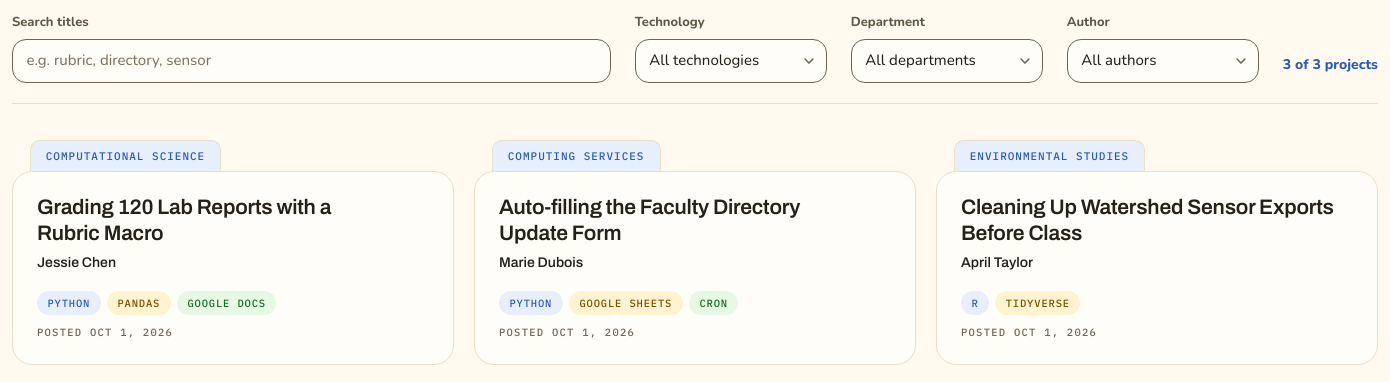
Test: ProjectBrowser › narrows the grid as you filter, with no second request
The image size is (1390, 382).
Type "watershed" into the search field labelled "Search titles" at (311, 61), box left=12, top=38, right=611, bottom=83
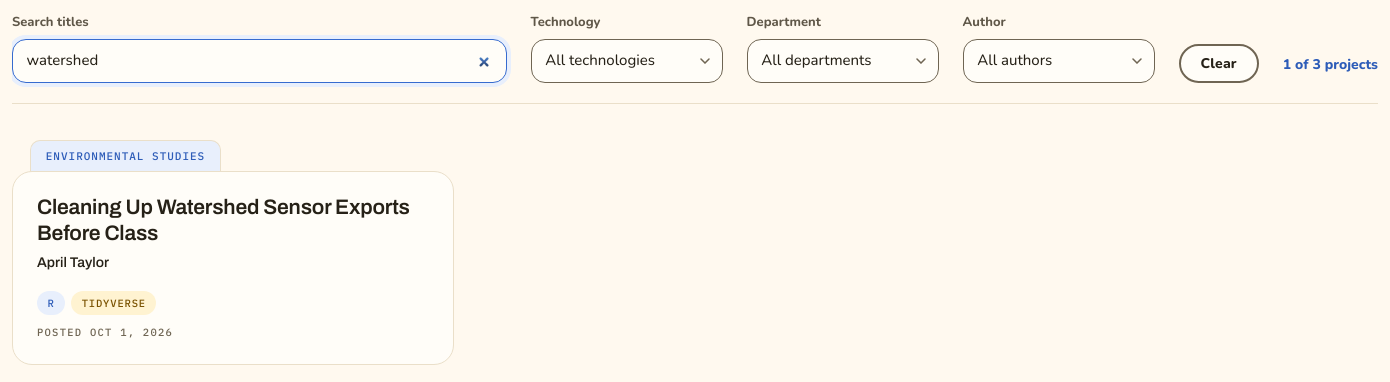
Expected: the link "Cleaning Up Watershed Sensor Exports Before Class" is shown, left=27, top=184, right=439, bottom=256
Result: the message reads "1 of 3 projects" at left=1283, top=55, right=1378, bottom=74
Select "Python" in the dropdown labelled "Technology" at (627, 61), box left=531, top=38, right=723, bottom=83
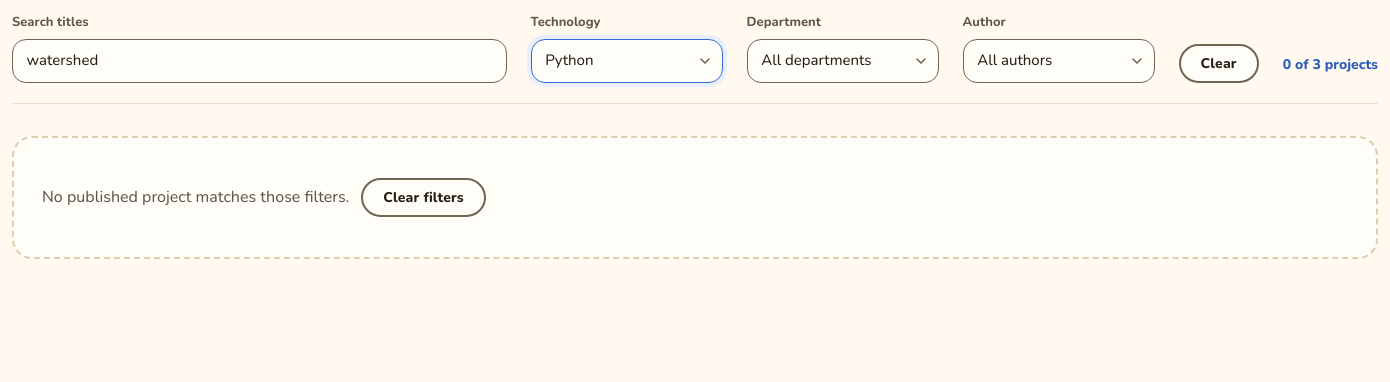
Click the button "Clear filters" at (424, 198), box left=361, top=178, right=486, bottom=217
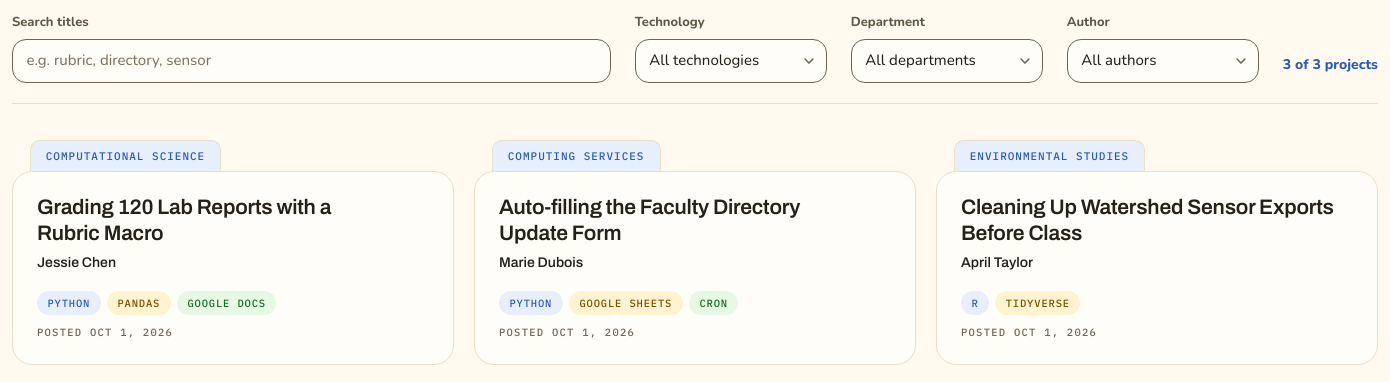
Result: the message reads "3 of 3 projects" at left=1283, top=55, right=1378, bottom=74
